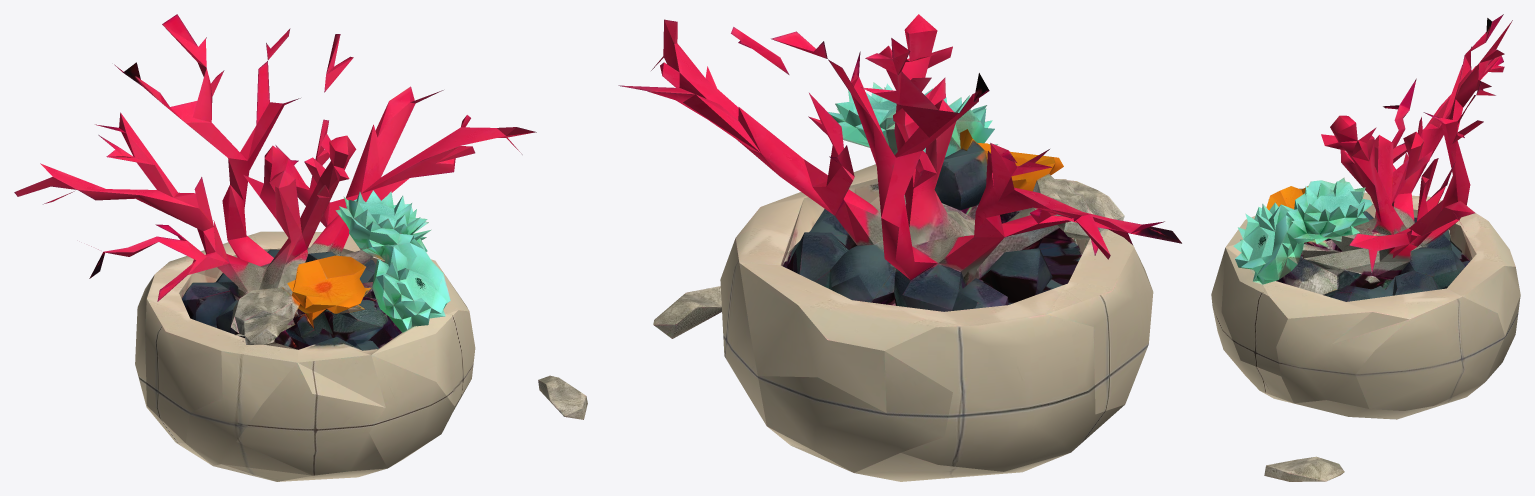
File: planter-coral.glb
3 views of the same model, side by side, from view 1: azimuth 30°, elevation 25°; view 2: azimuth 150°, elevation 25°; view 3: azimuth 270°, elevation 25° (orthographic). The views are drawn at different scales.
Bounding box in the file's own units: 1.9 × 1.48 × 1.23.
Materials: 1 (1 with a texture image).
